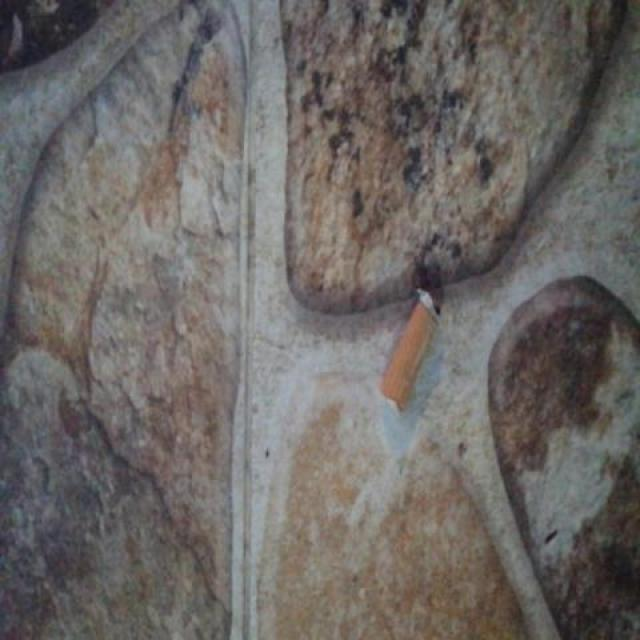non-organic waste: (374, 284, 445, 419)
